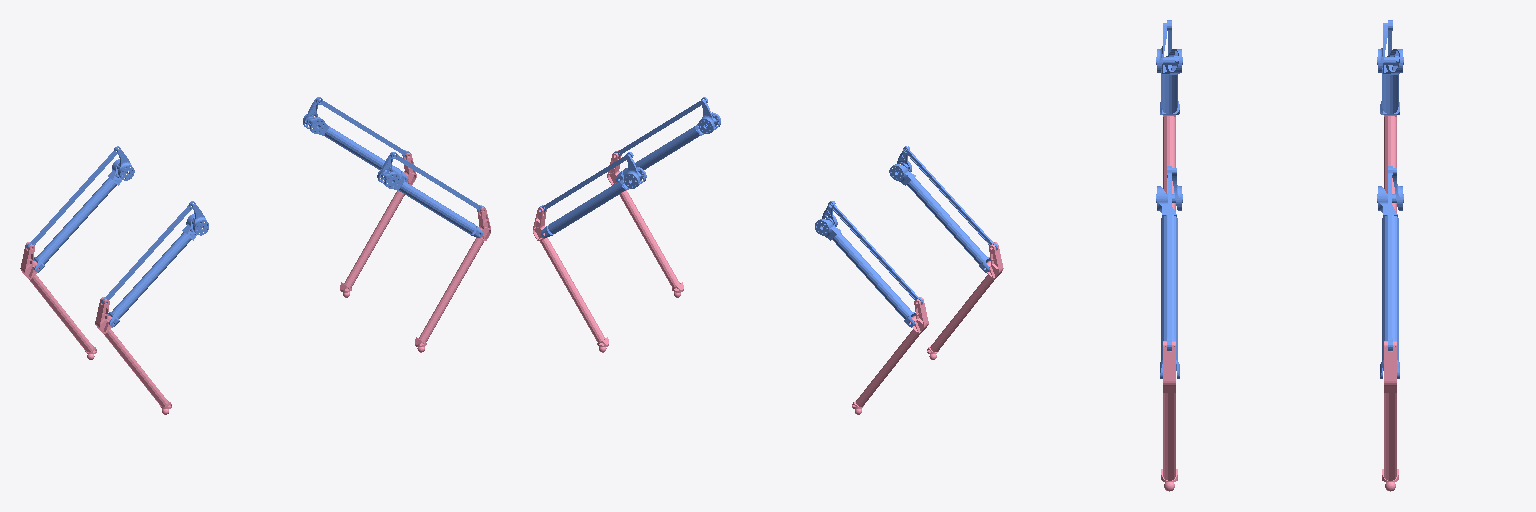
The robot description file, URDF, robot "flying_robot_urdf":
<?xml version="1.0"?>
<!-- This URDF was automatically created by SolidWorks to URDF Exporter! Originally created by Stephen Brawner (brawner@gmail.com) 
     Commit Version: 1.6.0-4-g7f85cfe  Build Version: 1.6.7995.38578
     For more information, please see http://wiki.ros.org/sw_urdf_exporter -->
<robot
  name="flying_robot_urdf">
  <link
    name="base_link">
    <inertial>
      <origin
        xyz="0.00097602 -0.00079334 -0.045696"
        rpy="0 0 0" />
      <mass
        value="16.042" />
      <inertia
        ixx="0.10987"
        ixy="-0.0036184"
        ixz="-3.3898E-07"
        iyy="0.10984"
        iyz="-1.8961E-06"
        izz="0.11597" />
    </inertial>
    <visual>
      <origin
        xyz="0 0 0"
        rpy="0 0 0" />
      <geometry>
        <mesh
          filename="package://simulation/robots/flying_robot_urdf/meshes/base_link.STL" />
      </geometry>
      <material
        name="">
        <color
          rgba="0 0.78039 0.59216 1" />
      </material>
    </visual>
    <collision>
      <origin
        xyz="0 0 0"
        rpy="0 0 0" />
      <geometry>
        <mesh
          filename="package://simulation/robots/flying_robot_urdf/meshes/base_link.STL" />
      </geometry>
    </collision>
  </link>
  <link
    name="leftfront">
    <inertial>
      <origin
        xyz="0.0796419142918207 -1.95549848725773E-05 -0.0426060611978254"
        rpy="0 0 0" />
      <mass
        value="0.798414527575896" />
      <inertia
        ixx="0.000382633435194024"
        ixy="-1.72636640408826E-07"
        ixz="-4.57824406237476E-06"
        iyy="0.000744230661608469"
        iyz="-4.74958965953524E-07"
        izz="0.000480300561467963" />
    </inertial>
    <visual>
      <origin
        xyz="0 0 0"
        rpy="0 0 0" />
      <geometry>
        <mesh
          filename="package://simulation/robots/flying_robot_urdf/meshes/leftfront.STL" />
      </geometry>
      <material
        name="">
        <color
          rgba="0.776470588235294 0.756862745098039 0.737254901960784 1" />
      </material>
    </visual>
    <collision>
      <origin
        xyz="0 0 0"
        rpy="0 0 0" />
      <geometry>
        <mesh
          filename="package://simulation/robots/flying_robot_urdf/meshes/leftfront.STL" />
      </geometry>
    </collision>
  </link>
  <joint
    name="jleftfront"
    type="continuous">
    <origin
      xyz="0.19991 0.20003 -0.0004"
      rpy="0 0 0" />
    <parent
      link="base_link" />
    <child
      link="leftfront" />
    <axis
      xyz="0 0 1" />
    <limit
      lower="0"
      upper="0"
      effort="0"
      velocity="0" />
  </joint>
  <link
    name="bigleglf">
    <inertial>
      <origin
        xyz="0.129390501059899 0.0121167662196758 -0.0248173656521"
        rpy="0 0 0" />
      <mass
        value="0.272834380727128" />
      <inertia
        ixx="5.84020775760563E-05"
        ixy="6.56865031416697E-06"
        ixz="1.19512015154443E-05"
        iyy="0.00113636455002395"
        iyz="-3.51662964131401E-06"
        izz="0.00115026261971198" />
    </inertial>
    <visual>
      <origin
        xyz="0 0 0"
        rpy="0 0 0" />
      <geometry>
        <mesh
          filename="package://simulation/robots/flying_robot_urdf/meshes/bigleglf.STL" />
      </geometry>
      <material
        name="">
        <color
          rgba="0.498039215686275 0.670588235294118 1 1" />
      </material>
    </visual>
    <collision>
      <origin
        xyz="0 0 0"
        rpy="0 0 0" />
      <geometry>
        <mesh
          filename="package://simulation/robots/flying_robot_urdf/meshes/bigleglf.STL" />
      </geometry>
    </collision>
  </link>
  <joint
    name="jbigleglf"
    type="continuous">
    <origin
      xyz="0.095008 -0.02502 -0.0421"
      rpy="1.5708 0.68715 0" />
    <parent
      link="leftfront" />
    <child
      link="bigleglf" />
    <axis
      xyz="0 0 1" />
    <limit
      lower="0"
      upper="0"
      effort="0"
      velocity="0" />
  </joint>
  <link
    name="smallleglf">
    <inertial>
      <origin
        xyz="0.141825205707711 0.0184964056882044 5.98999932988065E-10"
        rpy="0 0 0" />
      <mass
        value="0.191699347309648" />
      <inertia
        ixx="3.73472638523918E-05"
        ixy="-2.30315594537506E-05"
        ixz="5.49986327778361E-12"
        iyy="0.000541936612544305"
        iyz="5.54753263786826E-12"
        izz="0.000561661834710346" />
    </inertial>
    <visual>
      <origin
        xyz="0 0 0"
        rpy="0 0 0" />
      <geometry>
        <mesh
          filename="package://simulation/robots/flying_robot_urdf/meshes/smallleglf.STL" />
      </geometry>
      <material
        name="">
        <color
          rgba="1 0.654901960784314 0.756862745098039 1" />
      </material>
    </visual>
    <collision>
      <origin
        xyz="0 0 0"
        rpy="0 0 0" />
      <geometry>
        <mesh
          filename="package://simulation/robots/flying_robot_urdf/meshes/smallleglf.STL" />
      </geometry>
    </collision>
  </link>
  <joint
    name="jsmallleglf"
    type="continuous">
    <origin
      xyz="0.35 0 -0.025"
      rpy="0 0 -1.4916" />
    <parent
      link="bigleglf" />
    <child
      link="smallleglf" />
    <axis
      xyz="0 0 1" />
    <limit
      lower="0"
      upper="0"
      effort="0"
      velocity="0" />
  </joint>
  <link
    name="rightfront">
    <inertial>
      <origin
        xyz="0.0796421726505553 1.94546339800927E-05 -0.0426060611978287"
        rpy="0 0 0" />
      <mass
        value="0.798414527576588" />
      <inertia
        ixx="0.000382633435194025"
        ixy="-1.72636640408504E-07"
        ixz="-4.57824406237422E-06"
        iyy="0.000744230661608464"
        iyz="-4.74958965952894E-07"
        izz="0.000480300561467965" />
    </inertial>
    <visual>
      <origin
        xyz="0 0 0"
        rpy="0 0 0" />
      <geometry>
        <mesh
          filename="package://simulation/robots/flying_robot_urdf/meshes/rightfront.STL" />
      </geometry>
      <material
        name="">
        <color
          rgba="0.776470588235294 0.756862745098039 0.737254901960784 1" />
      </material>
    </visual>
    <collision>
      <origin
        xyz="0 0 0"
        rpy="0 0 0" />
      <geometry>
        <mesh
          filename="package://simulation/robots/flying_robot_urdf/meshes/rightfront.STL" />
      </geometry>
    </collision>
  </link>
  <joint
    name="jrightfront"
    type="continuous">
    <origin
      xyz="0.19991 -0.20001 -0.0004"
      rpy="0 0 0" />
    <parent
      link="base_link" />
    <child
      link="rightfront" />
    <axis
      xyz="0 0 1" />
    <limit
      lower="0"
      upper="0"
      effort="0"
      velocity="0" />
  </joint>
  <link
    name="biglegrf">
    <inertial>
      <origin
        xyz="0.129390500850725 0.012116766176949 -0.02481736564337"
        rpy="0 0 0" />
      <mass
        value="0.272834381042562" />
      <inertia
        ixx="5.84020775921114E-05"
        ixy="6.56865022173599E-06"
        ixz="1.19512015824109E-05"
        iyy="0.0011363645503615"
        iyz="-3.51662962193567E-06"
        izz="0.00115026262003777" />
    </inertial>
    <visual>
      <origin
        xyz="0 0 0"
        rpy="0 0 0" />
      <geometry>
        <mesh
          filename="package://simulation/robots/flying_robot_urdf/meshes/biglegrf.STL" />
      </geometry>
      <material
        name="">
        <color
          rgba="0.498039215686275 0.670588235294118 1 1" />
      </material>
    </visual>
    <collision>
      <origin
        xyz="0 0 0"
        rpy="0 0 0" />
      <geometry>
        <mesh
          filename="package://simulation/robots/flying_robot_urdf/meshes/biglegrf.STL" />
      </geometry>
    </collision>
  </link>
  <joint
    name="jbiglegrf"
    type="continuous">
    <origin
      xyz="0.095008 -0.024981 -0.0421"
      rpy="1.5708 0.68715 0" />
    <parent
      link="rightfront" />
    <child
      link="biglegrf" />
    <axis
      xyz="0 0 1" />
    <limit
      lower="0"
      upper="0"
      effort="0"
      velocity="0" />
  </joint>
  <link
    name="smalllegrf">
    <inertial>
      <origin
        xyz="0.141825202380367 0.0184964180115881 1.35155046876445E-08"
        rpy="0 0 0" />
      <mass
        value="0.191699347309648" />
      <inertia
        ixx="3.73472638523918E-05"
        ixy="-2.30315594537508E-05"
        ixz="5.49986330352109E-12"
        iyy="0.000541936612544305"
        iyz="5.54753265638182E-12"
        izz="0.000561661834710346" />
    </inertial>
    <visual>
      <origin
        xyz="0 0 0"
        rpy="0 0 0" />
      <geometry>
        <mesh
          filename="package://simulation/robots/flying_robot_urdf/meshes/smalllegrf.STL" />
      </geometry>
      <material
        name="">
        <color
          rgba="1 0.654901960784314 0.756862745098039 1" />
      </material>
    </visual>
    <collision>
      <origin
        xyz="0 0 0"
        rpy="0 0 0" />
      <geometry>
        <mesh
          filename="package://simulation/robots/flying_robot_urdf/meshes/smalllegrf.STL" />
      </geometry>
    </collision>
  </link>
  <joint
    name="jsmalllegrf"
    type="continuous">
    <origin
      xyz="0.35 0 -0.025"
      rpy="0 0 -1.4916" />
    <parent
      link="biglegrf" />
    <child
      link="smalllegrf" />
    <axis
      xyz="0 0 1" />
    <limit
      lower="0"
      upper="0"
      effort="0"
      velocity="0" />
  </joint>
  <link
    name="leftbehind">
    <inertial>
      <origin
        xyz="-0.0796421726505739 -1.94546338597723E-05 -0.0426060611978041"
        rpy="0 0 0" />
      <mass
        value="0.798414527576566" />
      <inertia
        ixx="0.000382633435194025"
        ixy="-1.72636640408571E-07"
        ixz="4.57824406237387E-06"
        iyy="0.000744230661608469"
        iyz="4.74958965952203E-07"
        izz="0.000480300561467964" />
    </inertial>
    <visual>
      <origin
        xyz="0 0 0"
        rpy="0 0 0" />
      <geometry>
        <mesh
          filename="package://simulation/robots/flying_robot_urdf/meshes/leftbehind.STL" />
      </geometry>
      <material
        name="">
        <color
          rgba="0.776470588235294 0.756862745098039 0.737254901960784 1" />
      </material>
    </visual>
    <collision>
      <origin
        xyz="0 0 0"
        rpy="0 0 0" />
      <geometry>
        <mesh
          filename="package://simulation/robots/flying_robot_urdf/meshes/leftbehind.STL" />
      </geometry>
    </collision>
  </link>
  <joint
    name="jleftbehind"
    type="continuous">
    <origin
      xyz="-0.20007 0.20003 -0.0004"
      rpy="0 0 0" />
    <parent
      link="base_link" />
    <child
      link="leftbehind" />
    <axis
      xyz="0 0 1" />
    <limit
      lower="0"
      upper="0"
      effort="0"
      velocity="0" />
  </joint>
  <link
    name="bigleglb">
    <inertial>
      <origin
        xyz="0.129390501073687 0.0121167665268781 -0.0248173656419603"
        rpy="0 0 0" />
      <mass
        value="0.272834381042562" />
      <inertia
        ixx="5.84020775590164E-05"
        ixy="6.56864750623974E-06"
        ixz="1.19512015912714E-05"
        iyy="0.0011363645503946"
        iyz="-3.51662959182919E-06"
        izz="0.00115026262003778" />
    </inertial>
    <visual>
      <origin
        xyz="0 0 0"
        rpy="0 0 0" />
      <geometry>
        <mesh
          filename="package://simulation/robots/flying_robot_urdf/meshes/bigleglb.STL" />
      </geometry>
      <material
        name="">
        <color
          rgba="0.498039215686275 0.670588235294118 1 1" />
      </material>
    </visual>
    <collision>
      <origin
        xyz="0 0 0"
        rpy="0 0 0" />
      <geometry>
        <mesh
          filename="package://simulation/robots/flying_robot_urdf/meshes/bigleglb.STL" />
      </geometry>
    </collision>
  </link>
  <joint
    name="jbigleglb"
    type="continuous">
    <origin
      xyz="-0.095008 0.024981 -0.0421"
      rpy="1.5708 0.68715 3.1416" />
    <parent
      link="leftbehind" />
    <child
      link="bigleglb" />
    <axis
      xyz="0 0 -1" />
    <limit
      lower="0"
      upper="0"
      effort="0"
      velocity="0" />
  </joint>
  <link
    name="smallleglb">
    <inertial>
      <origin
        xyz="0.141825204200351 0.0184964204010298 -5.10444286838663E-09"
        rpy="0 0 0" />
      <mass
        value="0.191699347309648" />
      <inertia
        ixx="3.7347263950301E-05"
        ixy="-2.30315605262759E-05"
        ixz="5.49986320883689E-12"
        iyy="0.000541936612446396"
        iyz="5.54753267481388E-12"
        izz="0.000561661834710346" />
    </inertial>
    <visual>
      <origin
        xyz="0 0 0"
        rpy="0 0 0" />
      <geometry>
        <mesh
          filename="package://simulation/robots/flying_robot_urdf/meshes/smallleglb.STL" />
      </geometry>
      <material
        name="">
        <color
          rgba="1 0.654901960784314 0.756862745098039 1" />
      </material>
    </visual>
    <collision>
      <origin
        xyz="0 0 0"
        rpy="0 0 0" />
      <geometry>
        <mesh
          filename="package://simulation/robots/flying_robot_urdf/meshes/smallleglb.STL" />
      </geometry>
    </collision>
  </link>
  <joint
    name="jsmallleglb"
    type="continuous">
    <origin
      xyz="0.35 0 -0.025"
      rpy="0 0 -1.4916" />
    <parent
      link="bigleglb" />
    <child
      link="smallleglb" />
    <axis
      xyz="0 0 -1" />
    <limit
      lower="0"
      upper="0"
      effort="0"
      velocity="0" />
  </joint>
  <link
    name="rightbehind">
    <inertial>
      <origin
        xyz="-0.0796421726505739 -1.94546338597723E-05 -0.0426060611978041"
        rpy="0 0 0" />
      <mass
        value="0.798414527576566" />
      <inertia
        ixx="0.000382633435194025"
        ixy="-1.72636640408571E-07"
        ixz="4.57824406237387E-06"
        iyy="0.000744230661608469"
        iyz="4.74958965952203E-07"
        izz="0.000480300561467964" />
    </inertial>
    <visual>
      <origin
        xyz="0 0 0"
        rpy="0 0 0" />
      <geometry>
        <mesh
          filename="package://simulation/robots/flying_robot_urdf/meshes/rightbehind.STL" />
      </geometry>
      <material
        name="">
        <color
          rgba="1 1 1 1" />
      </material>
    </visual>
    <collision>
      <origin
        xyz="0 0 0"
        rpy="0 0 0" />
      <geometry>
        <mesh
          filename="package://simulation/robots/flying_robot_urdf/meshes/rightbehind.STL" />
      </geometry>
    </collision>
  </link>
  <joint
    name="jrightbehind"
    type="continuous">
    <origin
      xyz="-0.20007 -0.19997 -0.0004"
      rpy="0 0 0" />
    <parent
      link="base_link" />
    <child
      link="rightbehind" />
    <axis
      xyz="0 0 1" />
    <limit
      lower="0"
      upper="0"
      effort="0"
      velocity="0" />
  </joint>
  <link
    name="biglegrb">
    <inertial>
      <origin
        xyz="0.129390500997052 0.0121167661972068 -0.0248173656565086"
        rpy="0 0 0" />
      <mass
        value="0.272834380727127" />
      <inertia
        ixx="5.84020775760716E-05"
        ixy="6.56865031416677E-06"
        ixz="1.19512015154425E-05"
        iyy="0.00113636455002396"
        iyz="-3.51662964131387E-06"
        izz="0.00115026261971198" />
    </inertial>
    <visual>
      <origin
        xyz="0 0 0"
        rpy="0 0 0" />
      <geometry>
        <mesh
          filename="package://simulation/robots/flying_robot_urdf/meshes/biglegrb.STL" />
      </geometry>
      <material
        name="">
        <color
          rgba="0.498039215686275 0.670588235294118 1 1" />
      </material>
    </visual>
    <collision>
      <origin
        xyz="0 0 0"
        rpy="0 0 0" />
      <geometry>
        <mesh
          filename="package://simulation/robots/flying_robot_urdf/meshes/biglegrb.STL" />
      </geometry>
    </collision>
  </link>
  <joint
    name="jbiglegrb"
    type="continuous">
    <origin
      xyz="-0.095008 0.024981 -0.0421"
      rpy="1.5708 0.68715 3.1416" />
    <parent
      link="rightbehind" />
    <child
      link="biglegrb" />
    <axis
      xyz="0 0 -1" />
    <limit
      lower="0"
      upper="0"
      effort="0"
      velocity="0" />
  </joint>
  <link
    name="smalllegrb">
    <inertial>
      <origin
        xyz="0.141825202102729 0.0184964190369655 -5.1044384552501E-09"
        rpy="0 0 0" />
      <mass
        value="0.191699347309649" />
      <inertia
        ixx="3.7347263852392E-05"
        ixy="-2.30315594537508E-05"
        ixz="5.49986327491897E-12"
        iyy="0.000541936612544305"
        iyz="5.54753261238498E-12"
        izz="0.000561661834710346" />
    </inertial>
    <visual>
      <origin
        xyz="0 0 0"
        rpy="0 0 0" />
      <geometry>
        <mesh
          filename="package://simulation/robots/flying_robot_urdf/meshes/smalllegrb.STL" />
      </geometry>
      <material
        name="">
        <color
          rgba="1 0.654901960784314 0.756862745098039 1" />
      </material>
    </visual>
    <collision>
      <origin
        xyz="0 0 0"
        rpy="0 0 0" />
      <geometry>
        <mesh
          filename="package://simulation/robots/flying_robot_urdf/meshes/smalllegrb.STL" />
      </geometry>
    </collision>
  </link>
  <joint
    name="jsmalllegrb"
    type="continuous">
    <origin
      xyz="0.35 0 -0.025"
      rpy="0 0 -1.4916" />
    <parent
      link="biglegrb" />
    <child
      link="smalllegrb" />
    <axis
      xyz="0 0 -1" />
    <limit
      lower="0"
      upper="0"
      effort="0"
      velocity="0" />
  </joint>
</robot>

--- Render facts (derived) ---
3 views of the same robot in one strip: view 1: azimuth 30°, elevation 25°; view 2: azimuth 150°, elevation 25°; view 3: azimuth 270°, elevation 25° (orthographic).
Model flying_robot_urdf with 13 links and 12 joints (12 continuous), rooted at base_link, posed every joint at zero.
Links seen in each view (by area): view 1: biglegrb, bigleglb, biglegrf, bigleglf, smalllegrf, smalllegrb, smallleglb, smallleglf; view 2: bigleglb, biglegrb, bigleglf, biglegrf, smallleglf, smallleglb, smalllegrb, smalllegrf; view 3: biglegrf, bigleglf, smallleglf, smalllegrf, bigleglb, biglegrb, smallleglb, smalllegrb.
Boxes of the visible links, x1=… form: biglegrb: x1=101, y1=201, x2=208, y2=327; bigleglb: x1=26, y1=146, x2=134, y2=272; biglegrf: x1=377, y1=152, x2=484, y2=237; bigleglf: x1=303, y1=97, x2=410, y2=181; smalllegrf: x1=415, y1=205, x2=490, y2=352; smalllegrb: x1=95, y1=297, x2=171, y2=414; smallleglb: x1=20, y1=242, x2=96, y2=359; smallleglf: x1=340, y1=150, x2=416, y2=297; bigleglb: x1=815, y1=201, x2=922, y2=327; biglegrb: x1=889, y1=146, x2=997, y2=272; bigleglf: x1=539, y1=152, x2=646, y2=237; biglegrf: x1=613, y1=97, x2=720, y2=181; smallleglf: x1=533, y1=205, x2=608, y2=352; smallleglb: x1=852, y1=297, x2=928, y2=414; smalllegrb: x1=927, y1=242, x2=1003, y2=359; smalllegrf: x1=607, y1=150, x2=683, y2=297; biglegrf: x1=1156, y1=166, x2=1182, y2=378; bigleglf: x1=1377, y1=166, x2=1403, y2=378; smallleglf: x1=1382, y1=341, x2=1398, y2=491; smalllegrf: x1=1161, y1=341, x2=1177, y2=491; bigleglb: x1=1377, y1=20, x2=1403, y2=114; biglegrb: x1=1156, y1=20, x2=1182, y2=114; smallleglb: x1=1384, y1=115, x2=1396, y2=212; smalllegrb: x1=1163, y1=115, x2=1175, y2=211.
Size in the robot's own frame: 1.21 by 0.4498 by 0.6098 metres.
Meshes: 13 distinct files referenced, 8 mesh visuals loaded (8 binary STL); not drawn: 5 (reference not matched to a file when rendering).
